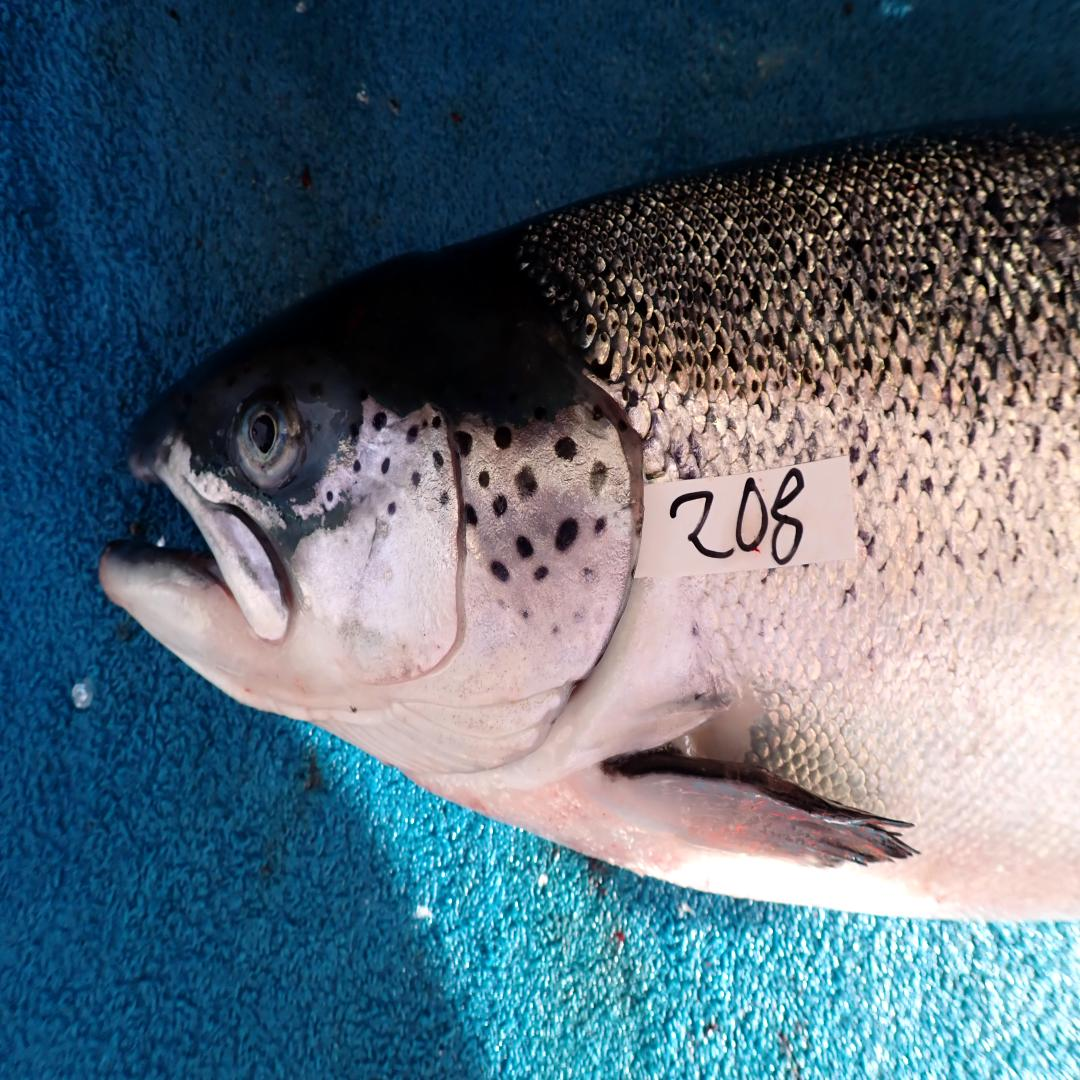roi: (292, 405, 640, 785)
